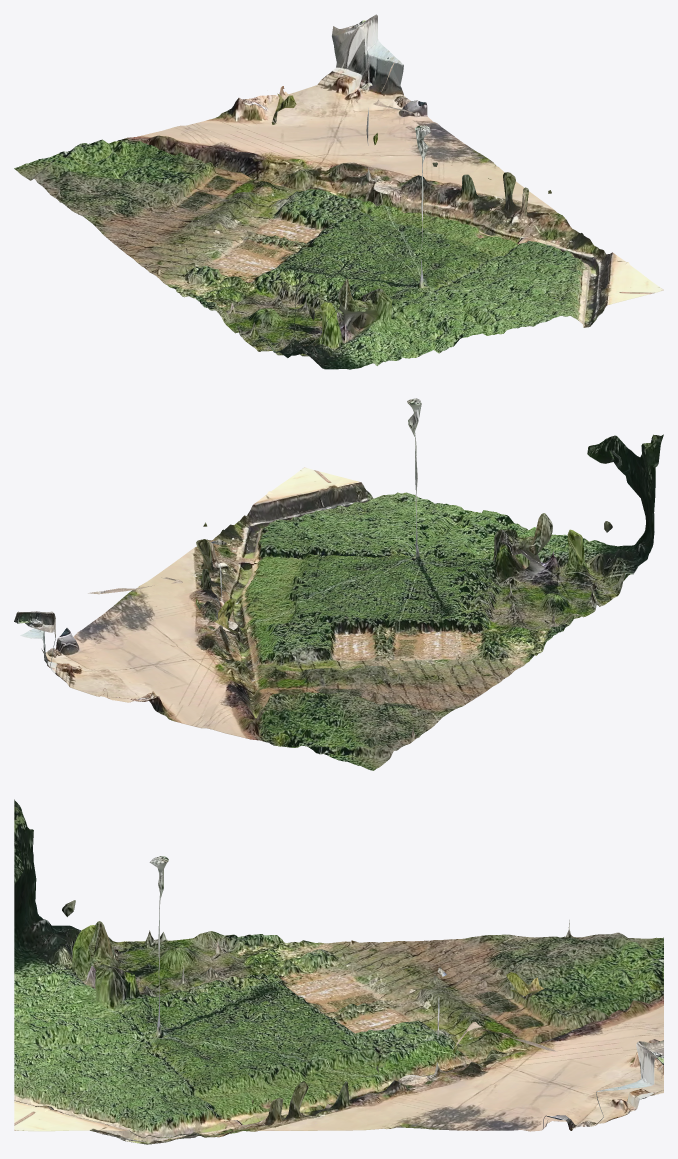
The model's file is BlockYY_L20_97.glb.
The picture shows the model from 3 angles, top to bottom: view 1: azimuth 30°, elevation 25°; view 2: azimuth 150°, elevation 25°; view 3: azimuth 270°, elevation 25°; orthographic projection. The views are drawn at different scales.
Visible parts, largest first — view 1: rtc; view 2: rtc; view 3: rtc.
Part boxes in pixels (x1,y1,x2,y2): rtc: [14, 14, 663, 369]; rtc: [14, 398, 663, 770]; rtc: [14, 799, 663, 1144].
Bounding box in the file's own units: 36.68 × 17.32 × 51.31.
Materials: 5 (5 with a texture image).
